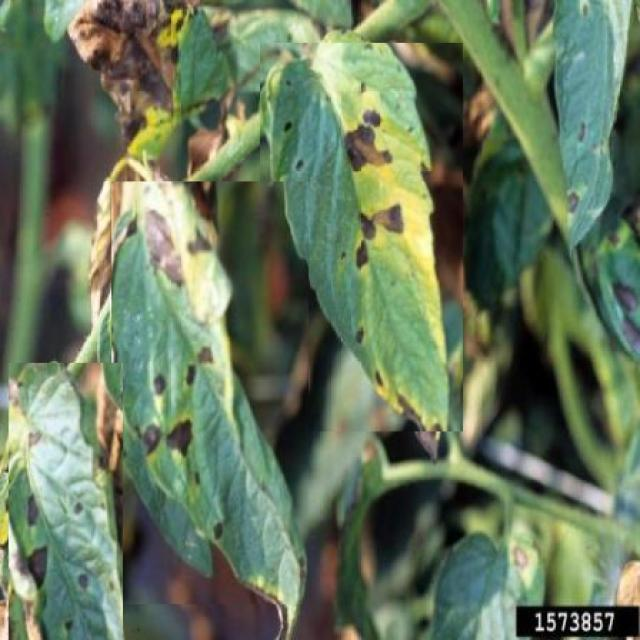Early Blight: (111, 182, 309, 605), (260, 44, 463, 432), (8, 363, 123, 640)
